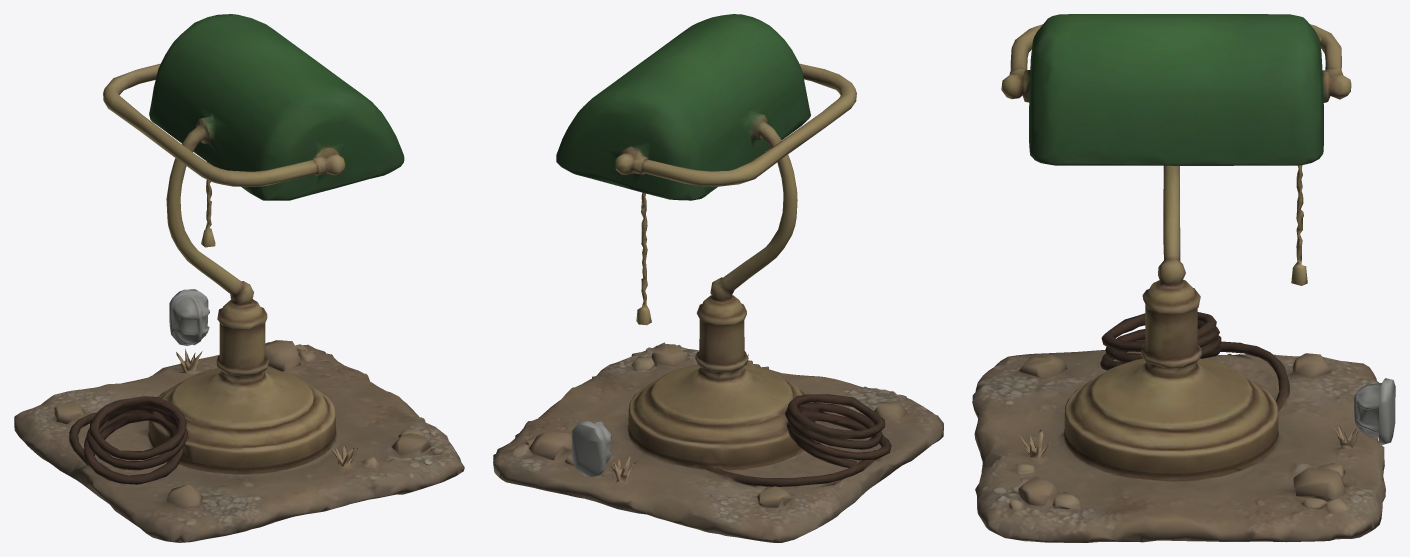
The model's file is office_lamp.glb.
3 views of the same model, side by side, from view 1: azimuth 30°, elevation 25°; view 2: azimuth 150°, elevation 25°; view 3: azimuth 270°, elevation 25° (orthographic). The views are drawn at different scales.
Visible parts, largest first — view 1: tripo_node_e68eee6c-b6e8-45fa-bc4f-e1634825f228; view 2: tripo_node_e68eee6c-b6e8-45fa-bc4f-e1634825f228; view 3: tripo_node_e68eee6c-b6e8-45fa-bc4f-e1634825f228.
Part boxes in pixels (x1=…): tripo_node_e68eee6c-b6e8-45fa-bc4f-e1634825f228: x1=14, y1=14, x2=464, y2=542; tripo_node_e68eee6c-b6e8-45fa-bc4f-e1634825f228: x1=493, y1=14, x2=943, y2=542; tripo_node_e68eee6c-b6e8-45fa-bc4f-e1634825f228: x1=972, y1=14, x2=1395, y2=542.
Bounding box in the file's own units: 0.8612 × 1 × 0.8523.
1 material, 1 textured.
